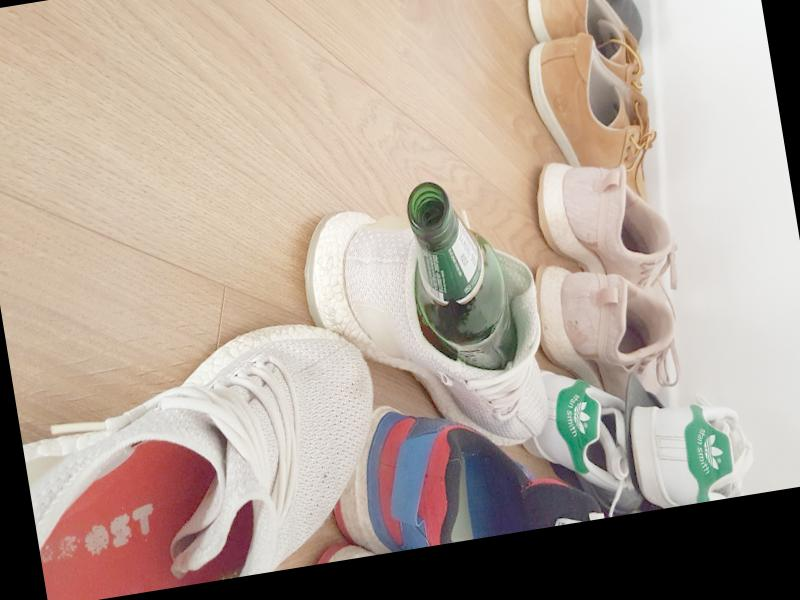Beer: (401, 171, 522, 378)
